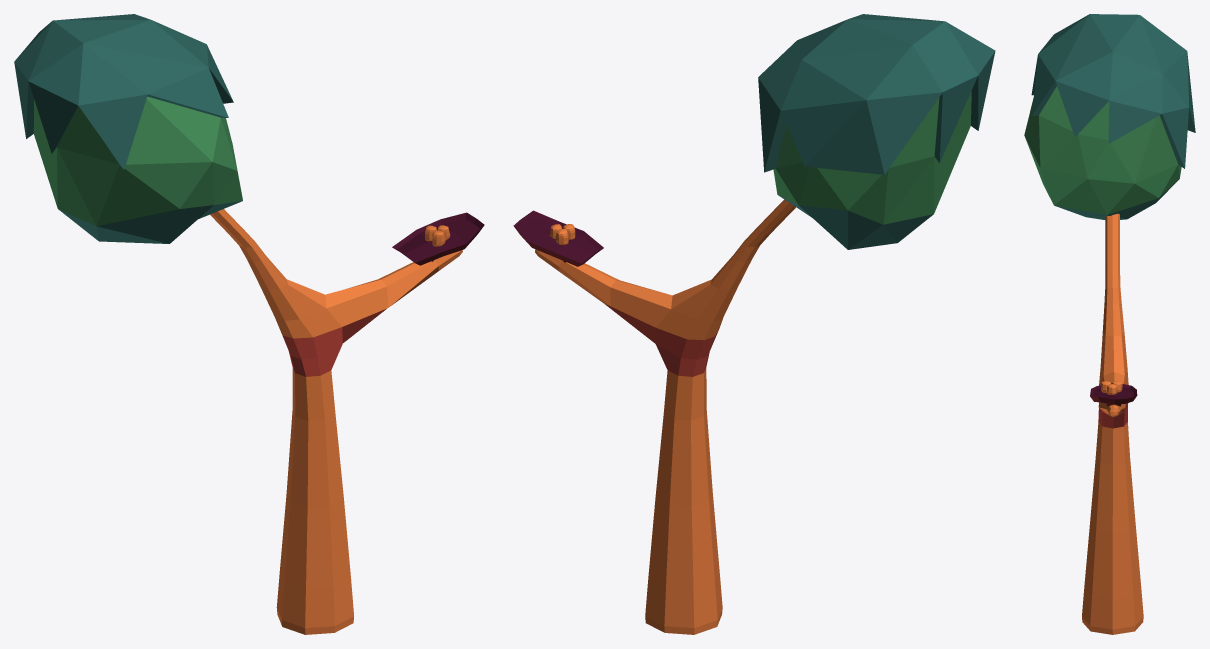
The model's file is tree_1.fbx.
3 views of the same model, side by side, from view 1: azimuth 30°, elevation 25°; view 2: azimuth 150°, elevation 25°; view 3: azimuth 270°, elevation 25° (orthographic). The views are drawn at different scales.
Parts seen in each view (by area): view 1: Tree_1.001, Tree_1; view 2: Tree_1.001, Tree_1; view 3: Tree_1.001, Tree_1.
Boxes of the visible parts, <box> form: Tree_1.001: <box>14,14,242,243</box>; Tree_1: <box>210,209,484,634</box>; Tree_1.001: <box>758,14,995,249</box>; Tree_1: <box>513,199,795,634</box>; Tree_1.001: <box>1024,14,1195,219</box>; Tree_1: <box>1082,213,1143,634</box>.
Bounding box in the file's own units: 662 × 904 × 274.
